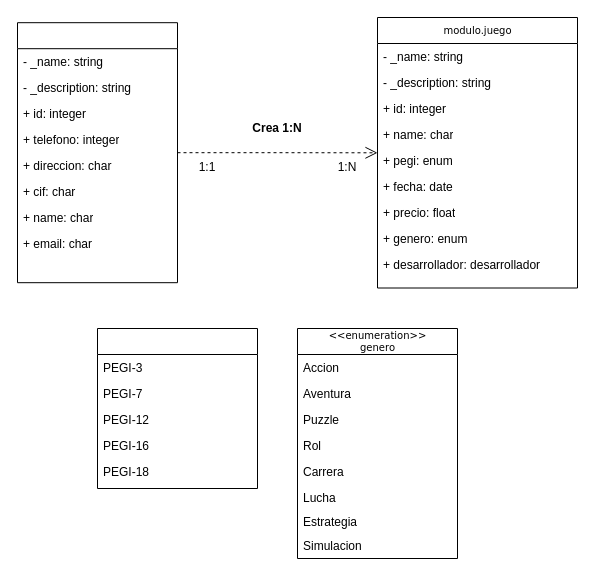
The diagram is 595 pixels wide and 577 high, and some of its shapes have lost their labels. Each missing label, with the box of its shape:
<<enumeration>> pegi: (96, 328, 258, 488)
modulo.desarrollador: (16, 22, 178, 283)
